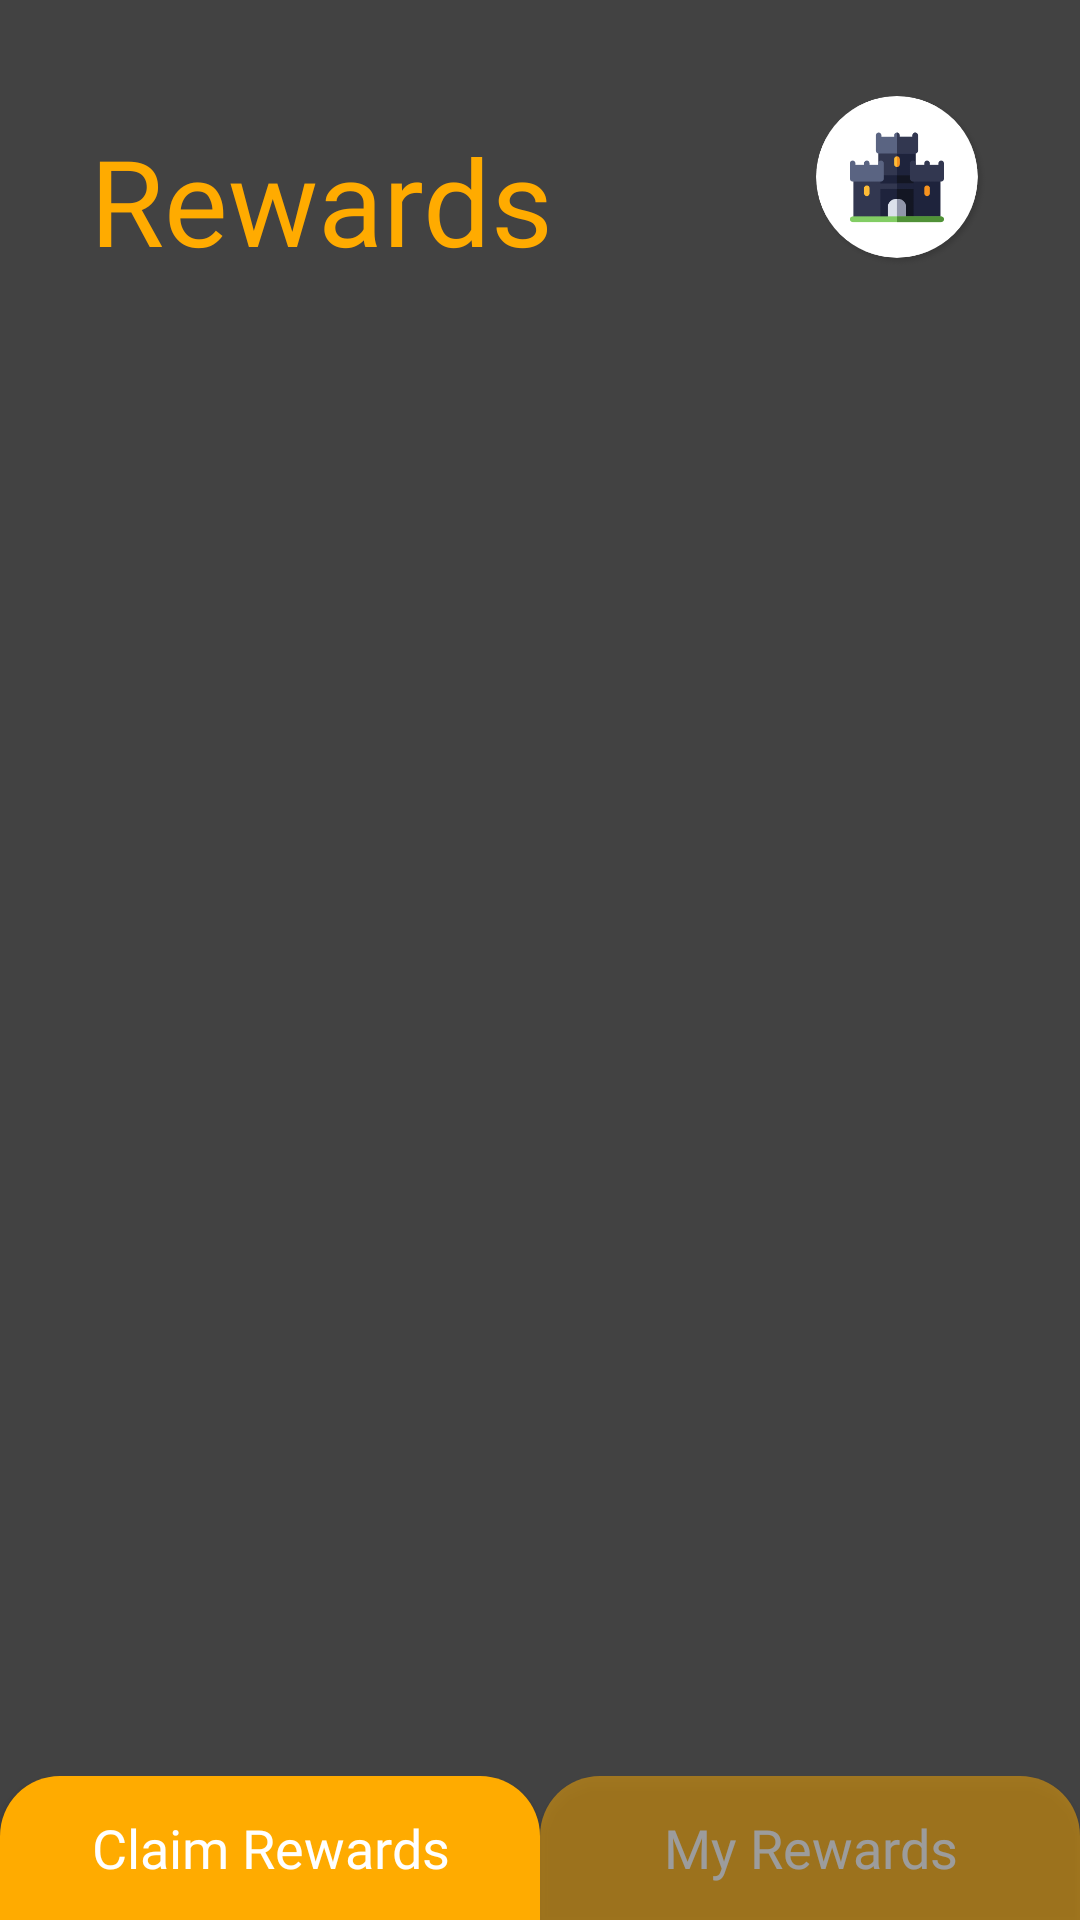

Named icons in this screenshot (1080*1920) and their centers, point (x, y):
home: point (897, 177)
